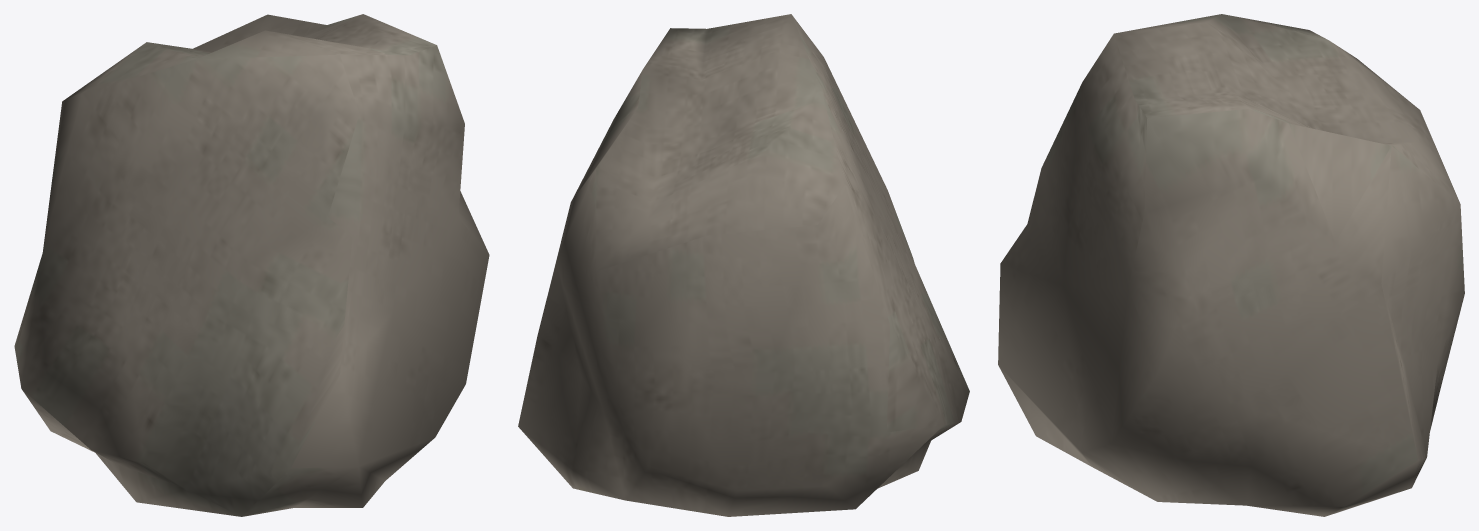
File: moon_rock_02_lo.glb
3 views of the same model, side by side, from view 1: azimuth 30°, elevation 25°; view 2: azimuth 150°, elevation 25°; view 3: azimuth 270°, elevation 25° (orthographic). The views are drawn at different scales.
Parts seen in each view (by area): view 1: moon_rock_02_lo; view 2: moon_rock_02_lo; view 3: moon_rock_02_lo.
Part boxes in pixels (x1=…): moon_rock_02_lo: x1=14, y1=14, x2=489, y2=516; moon_rock_02_lo: x1=518, y1=14, x2=969, y2=516; moon_rock_02_lo: x1=998, y1=14, x2=1464, y2=516.
Bounding box in the file's own units: 0.9992 × 1 × 0.9951.
1 material, 1 textured.
